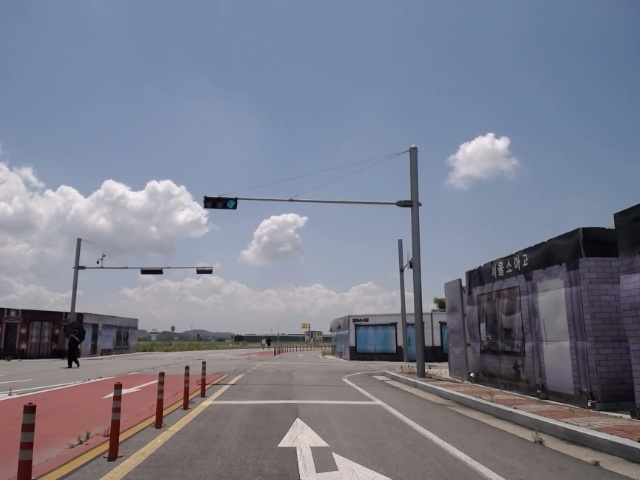green_3: (204, 197, 236, 208)
